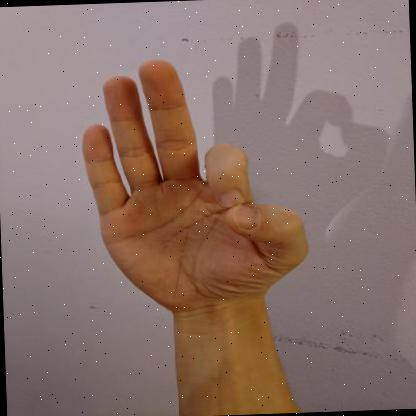F: (82, 60, 309, 316)
